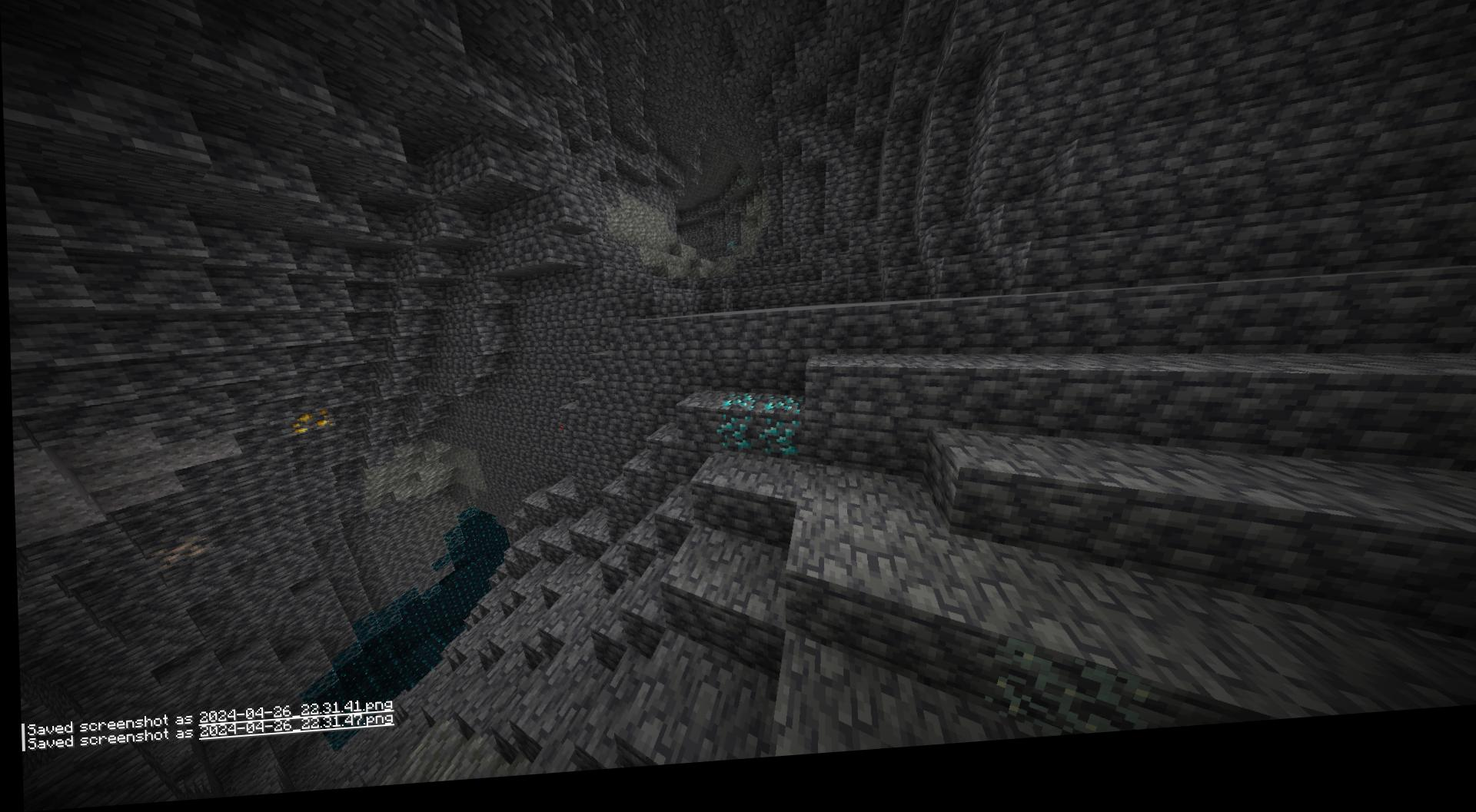diamond ore: (710, 419, 752, 466), (757, 427, 798, 469), (756, 400, 802, 432), (719, 400, 756, 423), (724, 249, 736, 263)
gold ore: (285, 409, 338, 444)
iron ore: (149, 535, 211, 570)
